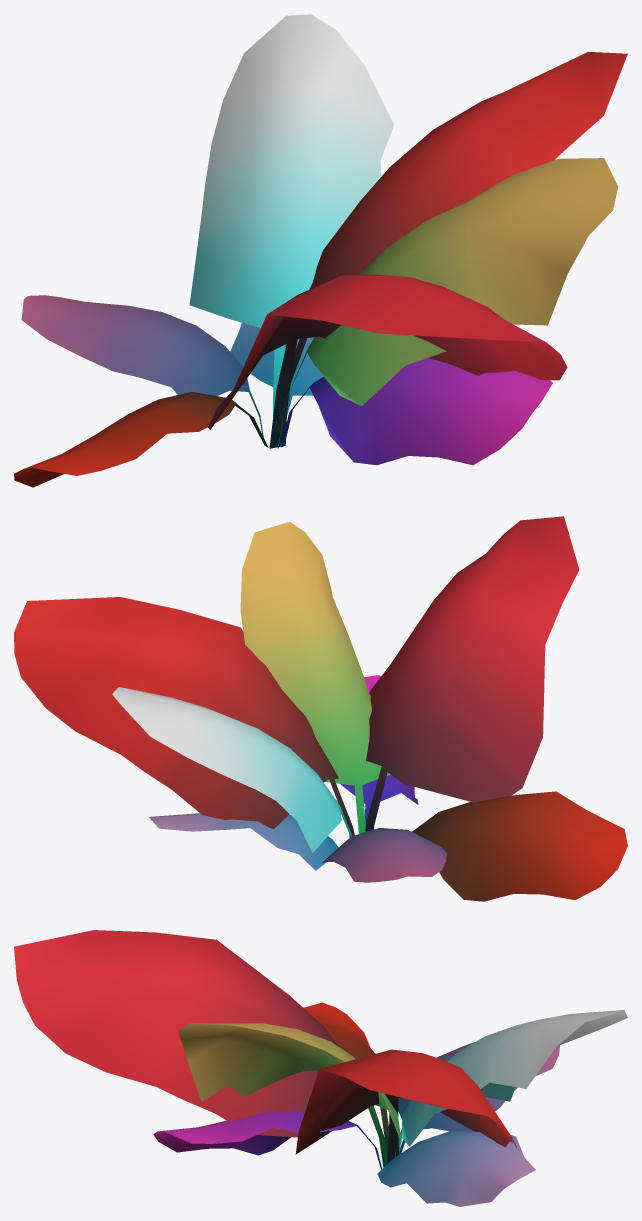
File: Tropical_Palm_rkqjj_Low_rkqjj_VarC_LOD1.fbx
3 renders of one model, top to bottom at view 1: azimuth 30°, elevation 25°; view 2: azimuth 150°, elevation 25°; view 3: azimuth 270°, elevation 25°, orthographic. The views are drawn at different scales.
Visible parts, largest first — view 1: _886a_VarC_LOD3; view 2: _886a_VarC_LOD3; view 3: _886a_VarC_LOD3.
Boxes of the visible parts, x1=… form: _886a_VarC_LOD3: x1=14, y1=14, x2=627, y2=487; _886a_VarC_LOD3: x1=14, y1=516, x2=627, y2=901; _886a_VarC_LOD3: x1=14, y1=930, x2=627, y2=1206.
Size of the model in its own units: 343 by 147 by 337.
